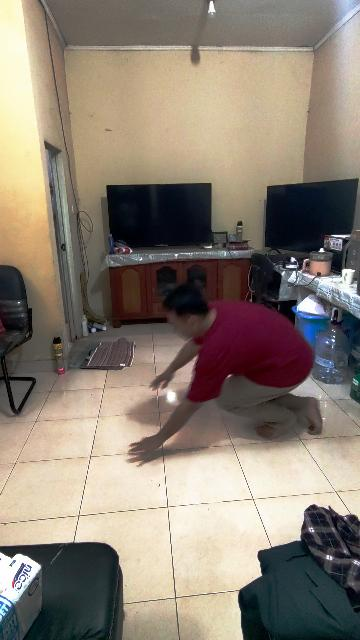jatuh: (131, 284, 323, 461)
